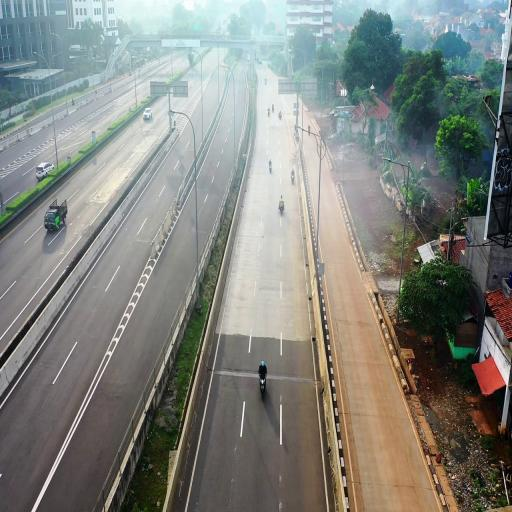vehicle: (44, 200, 68, 234), (36, 162, 54, 181), (142, 108, 154, 125)
